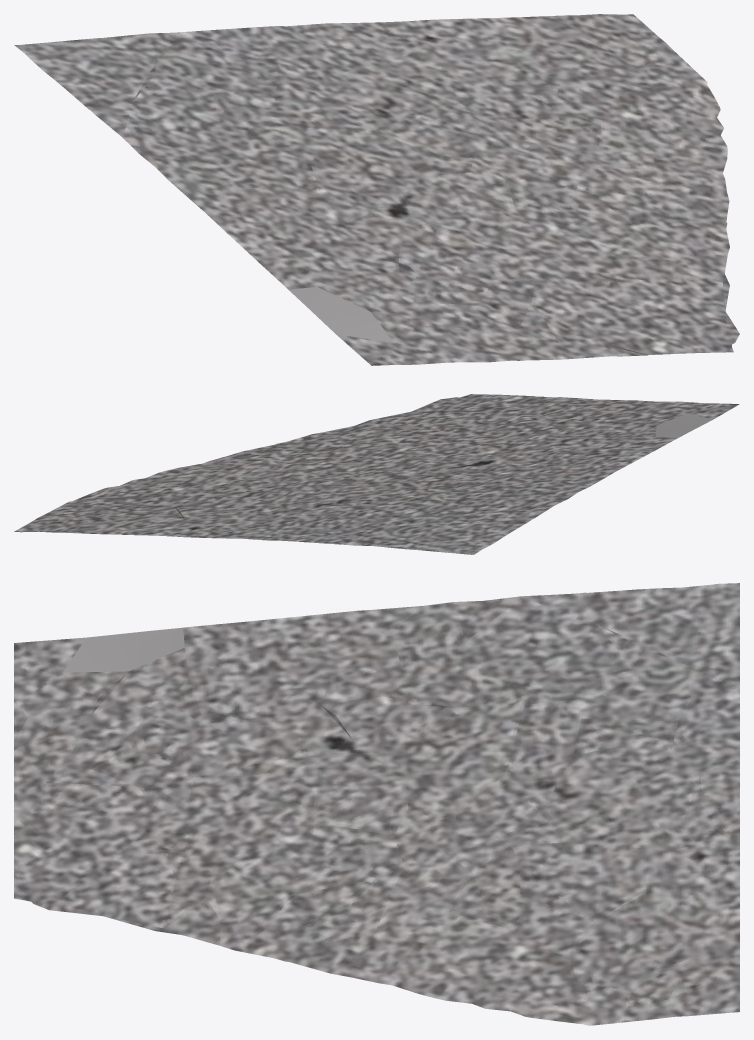
The picture shows the model from 3 angles, top to bottom: view 1: azimuth 30°, elevation 25°; view 2: azimuth 150°, elevation 25°; view 3: azimuth 270°, elevation 25°; orthographic projection. The views are drawn at different scales.
Bounding box in the file's own units: 0.8373 × 0.1731 × 0.8374.
2 materials, 2 textured.
